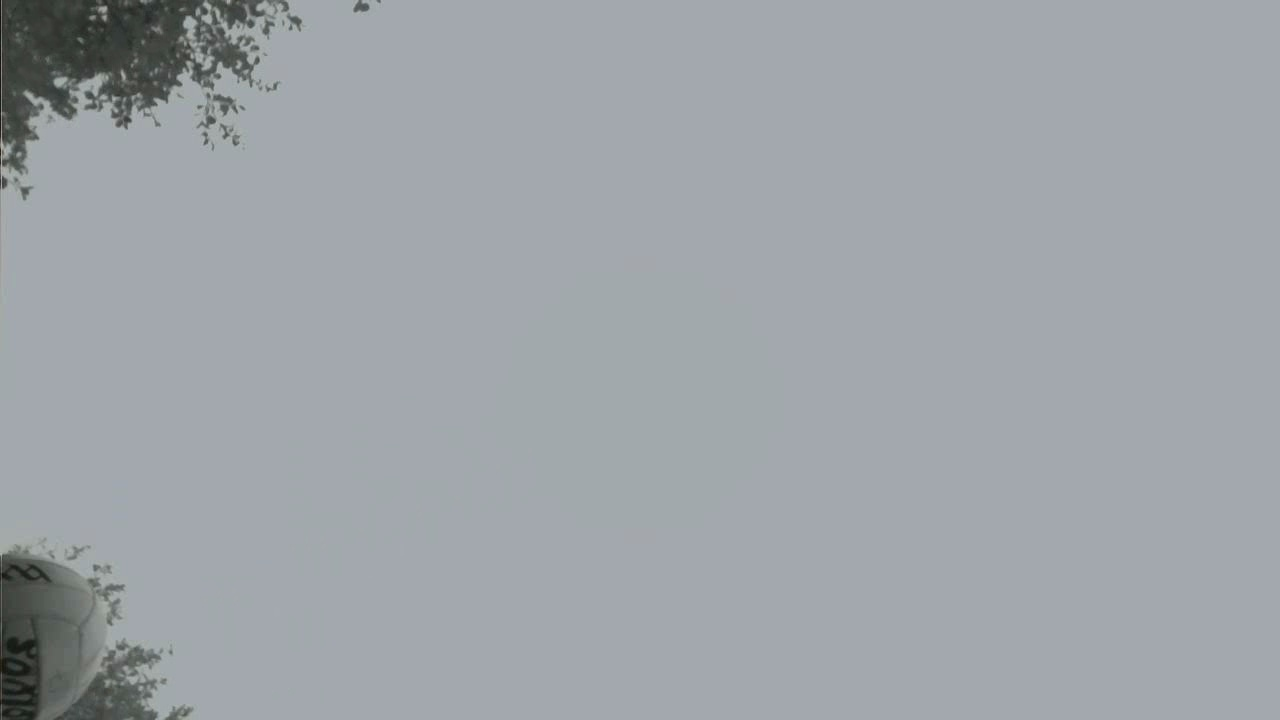Football-Spotter: (0, 555, 107, 719)
